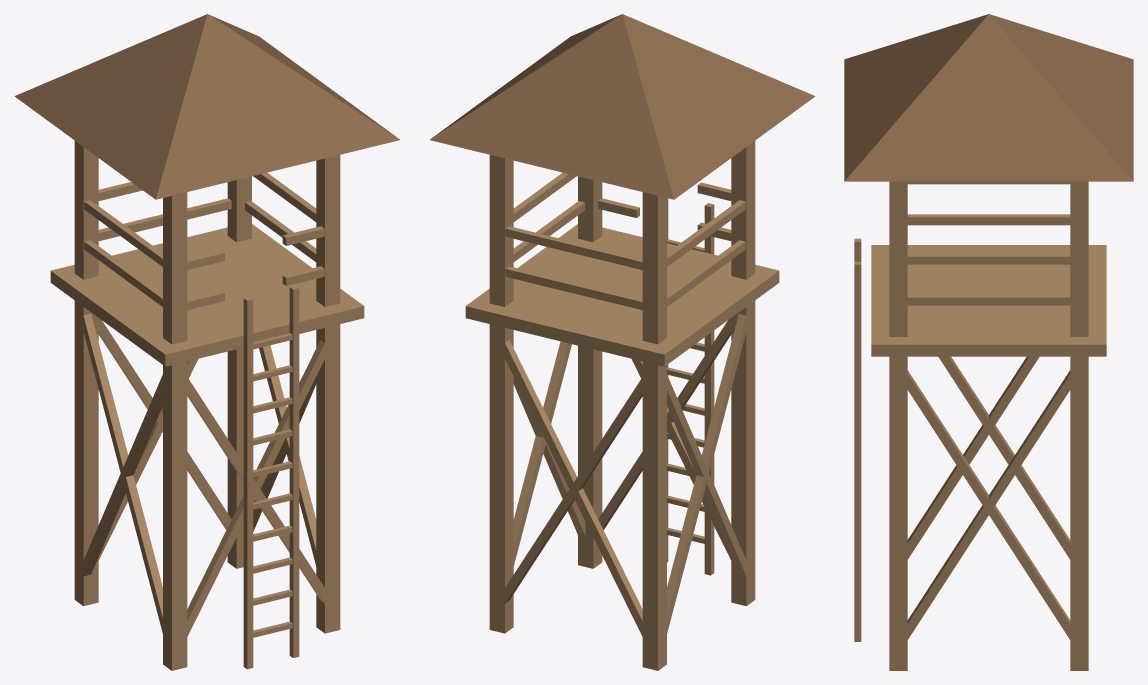
Rendered from watchtower.glb.
3 views of the same model, side by side, from view 1: azimuth 30°, elevation 25°; view 2: azimuth 150°, elevation 25°; view 3: azimuth 270°, elevation 25° (orthographic). The views are drawn at different scales.
Parts seen in each view (by area): view 1: Watchtower; view 2: Watchtower; view 3: Watchtower.
Part boxes in pixels (x1,y1,x2,y2): Watchtower: (14, 14, 399, 670); Watchtower: (430, 14, 815, 670); Watchtower: (844, 14, 1133, 670).
Bounding box in the file's own units: 3.2 × 7.5 × 3.2.
